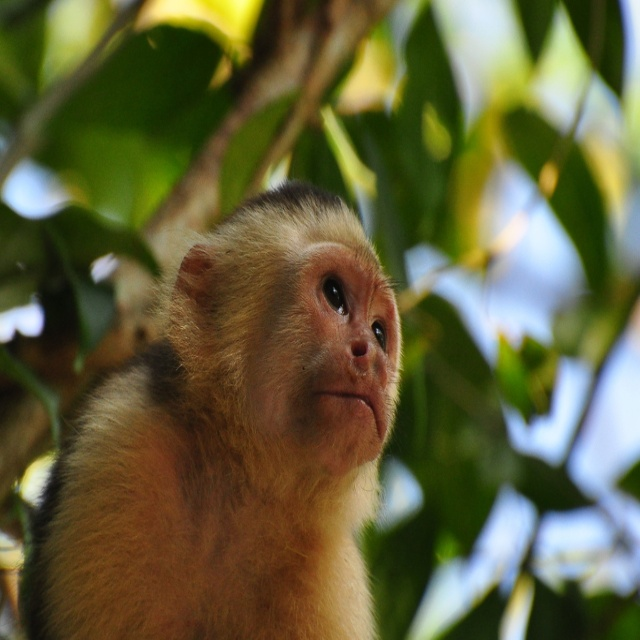Monkey: (2, 175, 414, 632)
